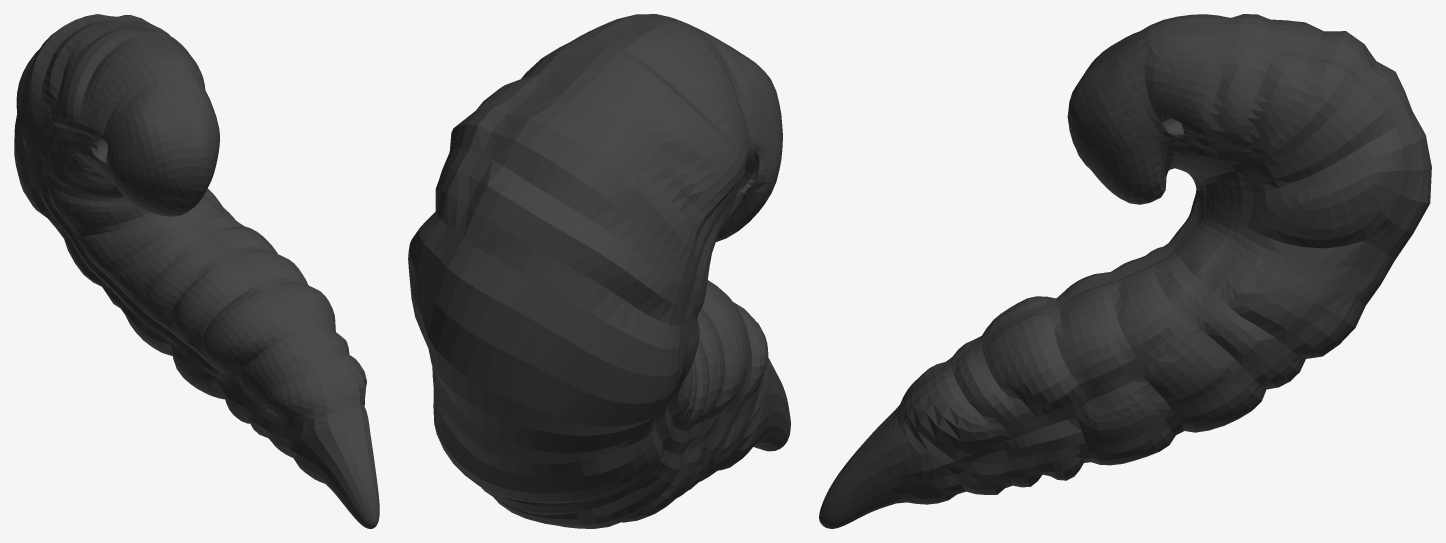
File: Caecum.glb
3 renders of one model, left to right at view 1: azimuth 30°, elevation 25°; view 2: azimuth 150°, elevation 25°; view 3: azimuth 270°, elevation 25°, orthographic. The views are drawn at different scales.
Visible parts, largest first — view 1: Caecum; view 2: Caecum; view 3: Caecum.
Part boxes in pixels (left/top/right/bottom): Caecum: left=14, top=14, right=379, bottom=528; Caecum: left=408, top=14, right=790, bottom=528; Caecum: left=819, top=14, right=1431, bottom=528.
Bounding box in the file's own units: 0.5345 × 1.03 × 1.23.
1 material, 1 textured.
